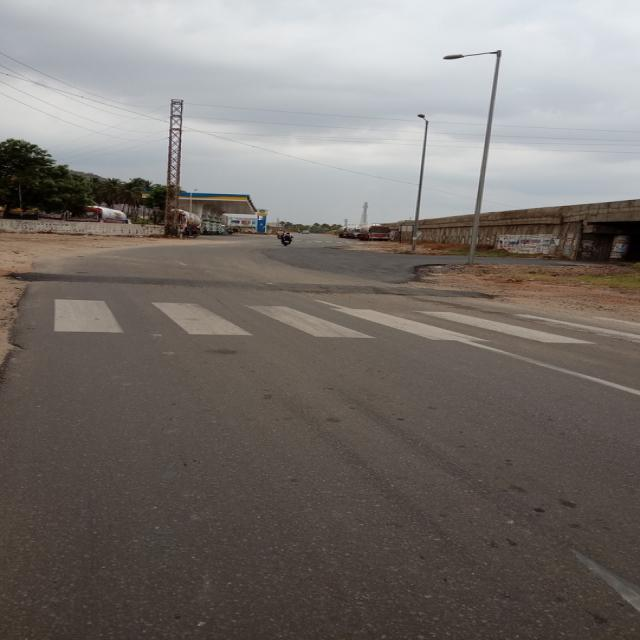NonMarked Bump: (17, 262, 500, 303)
